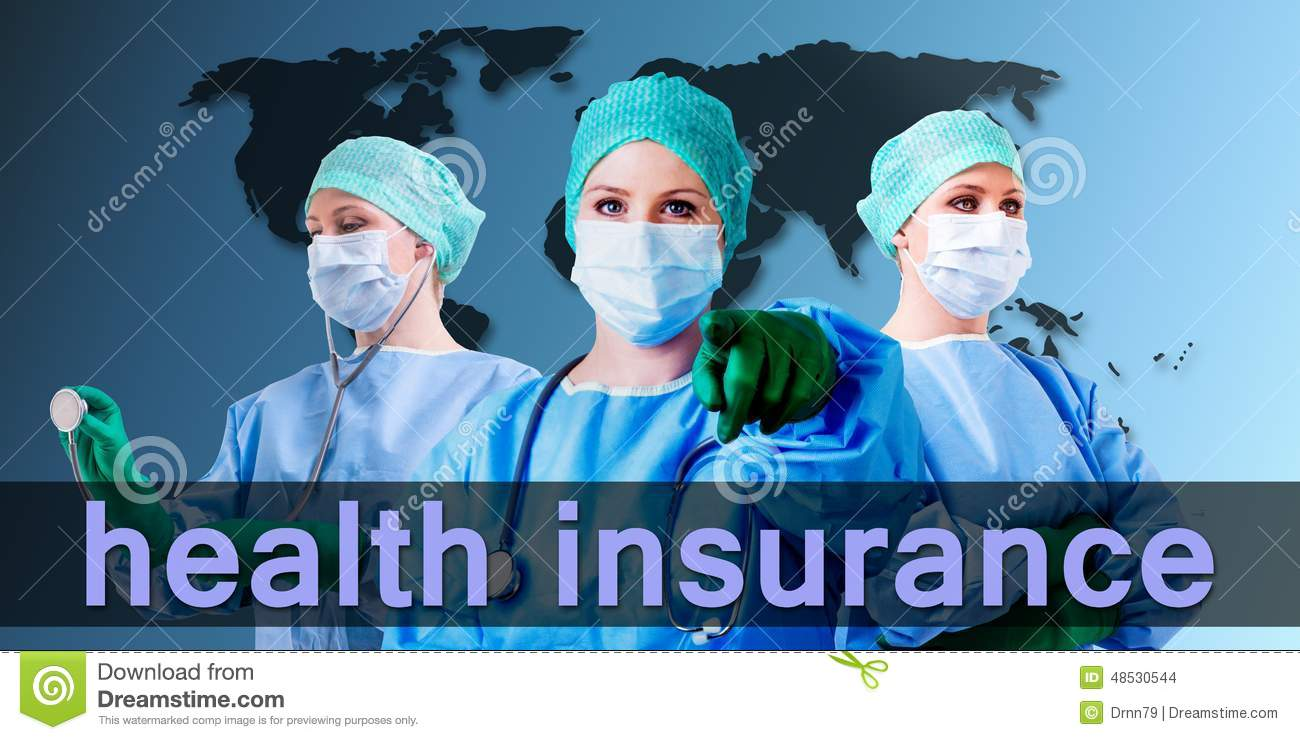mask: (567, 214, 725, 331), (300, 238, 421, 331), (919, 218, 1039, 303)
